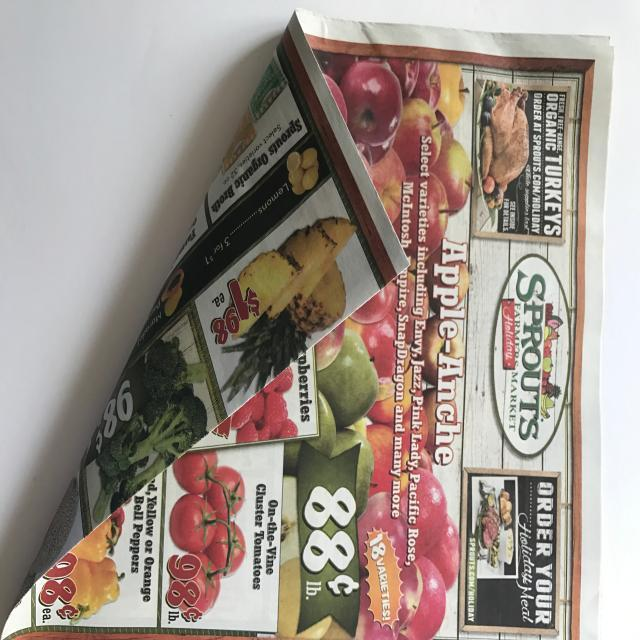paper: (1, 9, 616, 640)
